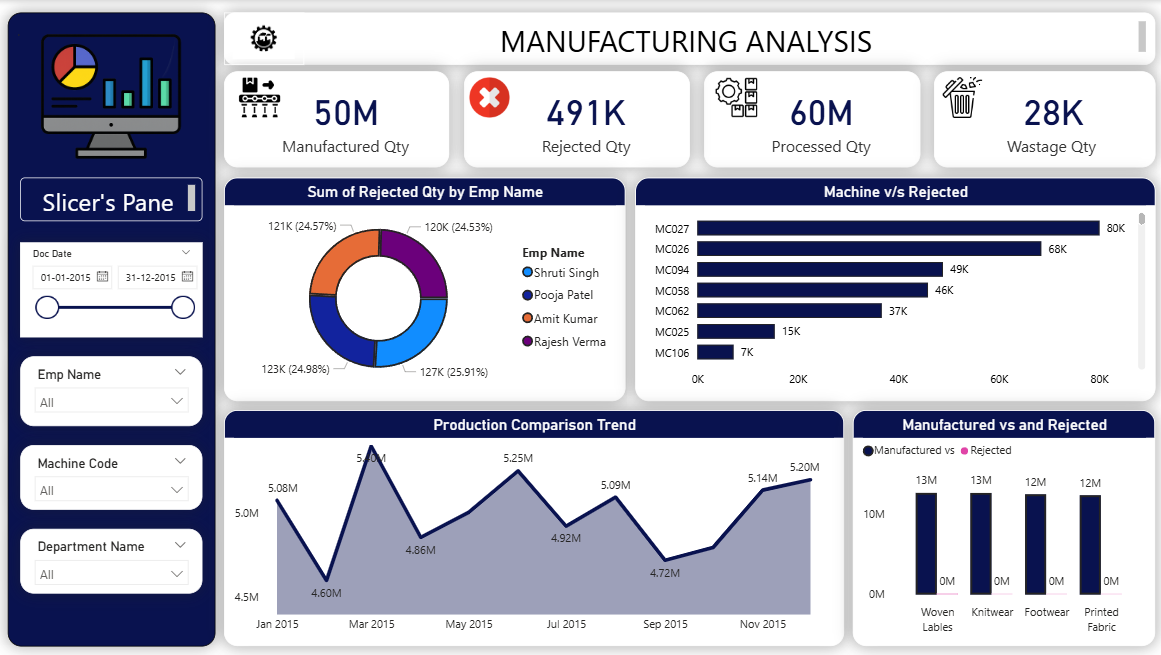

The dashboard page shown, as its layout file describes it:
{"tool":"powerbi","page":{"name":"Dashboard 2","canvas":[1280,720],"ordinal":0},"visuals":[{"type":"textbox","box":[9.6,13.7,227.8,695.7],"z":0},{"type":"textbox","box":[247,13.7,1022.3,57.6],"z":1000},{"type":"card","fields":{"Values":["Sum(Sheet1.Processed Qty)"]},"box":[773.9,78.2,237.4,105.7],"z":2000},{"type":"card","title":"Produced QTY","fields":{"Values":["Sum(Sheet1.Rejected Qty)"]},"box":[510.5,78.2,248.4,105.7],"z":3000},{"type":"card","fields":{"Values":["Sum(Sheet1.today Manufactured qty)"]},"box":[247,78.2,247,105.7],"z":4000},{"type":"card","fields":{"Values":["Sheet1.Wastage Qty measure"]},"box":[1026.4,78.2,242.9,105.7],"z":5000},{"type":"donutChart","fields":{"Category":["Sheet1.Emp Name"],"Y":["Sum(Sheet1.Rejected Qty)"]},"box":[247,194.9,440.5,245.6],"z":6000},{"type":"clusteredBarChart","title":"Machine v/s Rejected","fields":{"Category":["Sheet1.Machine Code"],"Y":["Sum(Sheet1.Rejected Qty)"]},"box":[698.5,194.9,570.8,245.6],"z":7000},{"type":"lineChart","title":"Production Comparison Trend ","fields":{"Y":["Sum(Sheet1.Produced Qty)"],"Category":["Sheet1.Doc Date.Variation.Date Hierarchy.Year","Sheet1.Doc Date.Variation.Date Hierarchy.Quarter","Sheet1.Doc Date.Variation.Date Hierarchy.Month","Sheet1.Doc Date.Variation.Date Hierarchy.Day"]},"box":[247,450.1,680.6,259.3],"z":8000},{"type":"clusteredColumnChart","title":"Manufactured vs and Rejected","fields":{"Y":["Sum(Sheet1.today Manufactured qty)","Sum(Sheet1.Rejected Qty)"],"Category":["Sheet1.Department Name"]},"box":[937.2,450.1,332.1,259.3],"z":9000},{"type":"slicer","fields":{"Values":["Sheet1.Emp Name"]},"box":[23.3,391.1,200.3,76.8],"z":10000},{"type":"slicer","fields":{"Values":["Sheet1.Machine Code"]},"box":[23.3,488.5,200.3,71.4],"z":11000},{"type":"slicer","fields":{"Values":["Sheet1.Department Name"]},"box":[23.3,580.4,200.3,71.4],"z":12000},{"type":"slicer","fields":{"Values":["Sheet1.Doc Date"]},"box":[23.3,266.2,200.3,104.3],"z":13000},{"type":"textbox","box":[23.3,194.9,200.3,48],"z":14000},{"type":"image","box":[0,0,247,219.6],"z":15000},{"type":"image","box":[1026.4,78.2,61.7,57.6],"z":16000},{"type":"image","box":[510.5,78.2,56.3,57.6],"z":17000},{"type":"image","box":[773.9,78.2,71.4,57.6],"z":18000},{"type":"image","box":[247,78.2,78.2,57.6],"z":19000},{"type":"image","box":[247,13.7,87.8,57.6],"z":20000}]}

Visuals, with their boxes in screenshot pixels (x1, y1, x2, y2), scaled from the page's 1280x720 canvas onto the 1161x655 screenshot:
textbox: [9, 12, 215, 645]
textbox: [224, 12, 1151, 65]
card - Sum(Sheet1.Processed Qty): [702, 71, 917, 167]
"Produced QTY" card: [463, 71, 688, 167]
card - Sum(Sheet1.today Manufactured qty): [224, 71, 448, 167]
card - Sheet1.Wastage Qty measure: [931, 71, 1151, 167]
donutChart - Sheet1.Emp Name x Sum(Sheet1.Rejected Qty): [224, 177, 624, 401]
"Machine v/s Rejected" clusteredBarChart: [634, 177, 1151, 401]
"Production Comparison Trend " lineChart: [224, 409, 841, 645]
"Manufactured vs and Rejected" clusteredColumnChart: [850, 409, 1151, 645]
slicer - Sheet1.Emp Name: [21, 356, 203, 426]
slicer - Sheet1.Machine Code: [21, 444, 203, 509]
slicer - Sheet1.Department Name: [21, 528, 203, 593]
slicer - Sheet1.Doc Date: [21, 242, 203, 337]
textbox: [21, 177, 203, 221]
image: [0, 0, 224, 200]
image: [931, 71, 987, 124]
image: [463, 71, 514, 124]
image: [702, 71, 767, 124]
image: [224, 71, 295, 124]
image: [224, 12, 304, 65]
